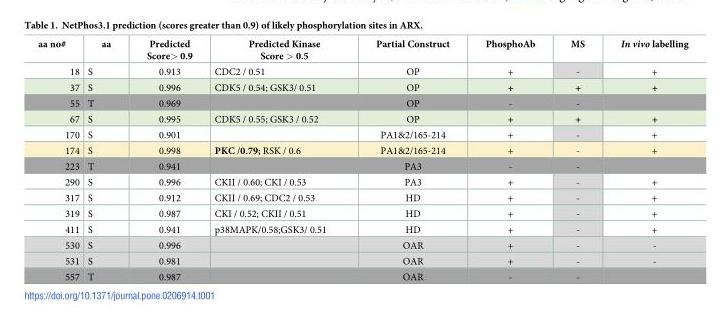table: (37, 37, 687, 281)
table column: (202, 37, 350, 281), (350, 37, 466, 281), (466, 37, 552, 281), (602, 37, 687, 281), (128, 37, 202, 281), (552, 37, 602, 281), (82, 37, 128, 281), (37, 37, 82, 281)
table column header: (37, 37, 687, 63)
table row: (37, 37, 687, 63), (37, 63, 687, 79), (37, 79, 687, 95), (37, 110, 687, 126), (37, 126, 687, 142), (37, 142, 687, 158), (37, 158, 687, 174), (37, 189, 687, 205), (37, 205, 687, 221), (37, 221, 687, 237), (37, 237, 687, 253), (37, 95, 687, 110), (37, 174, 687, 189), (37, 253, 687, 268), (37, 268, 687, 281)
